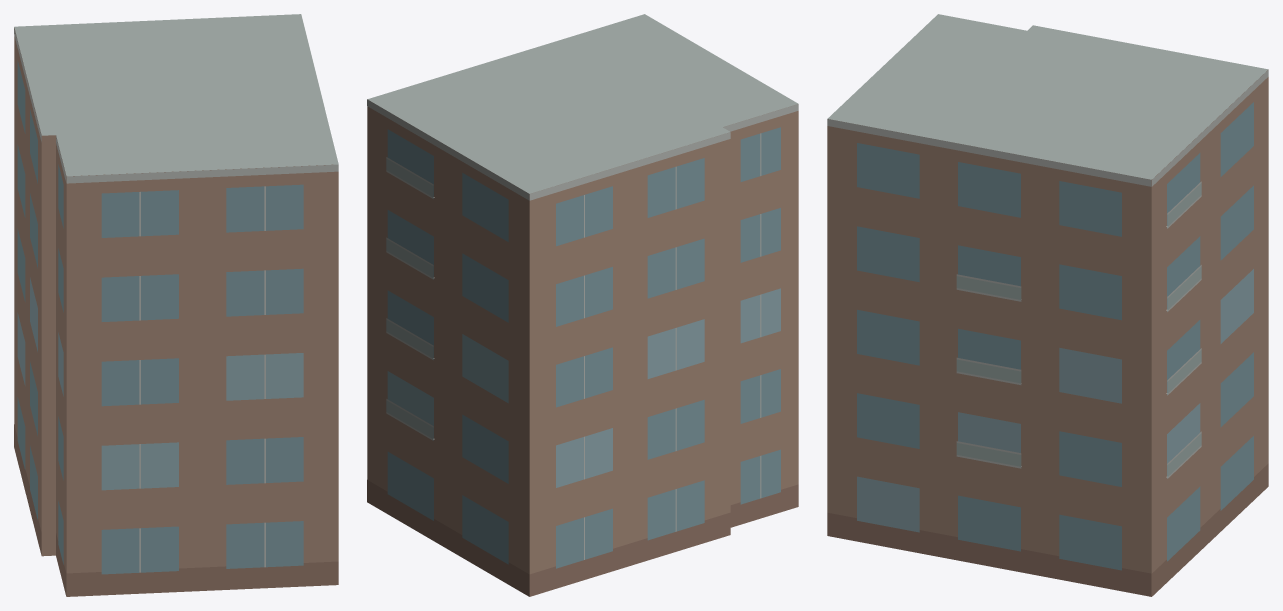
The model's file is survey-upis-32903501.glb.
3 renders of one model, left to right at view 1: azimuth 30°, elevation 25°; view 2: azimuth 150°, elevation 25°; view 3: azimuth 270°, elevation 25°, orthographic. The views are drawn at different scales.
Visible parts, largest first — view 1: survey-upis-32903501.tmp; view 2: survey-upis-32903501.tmp; view 3: survey-upis-32903501.tmp.
Boxes of the visible parts, left/top/right/bottom form: survey-upis-32903501.tmp: left=14, top=14, right=338, bottom=596; survey-upis-32903501.tmp: left=367, top=14, right=798, bottom=596; survey-upis-32903501.tmp: left=827, top=14, right=1268, bottom=596.
Bounding box in the file's own units: 12.2 × 14.3 × 13.72.
